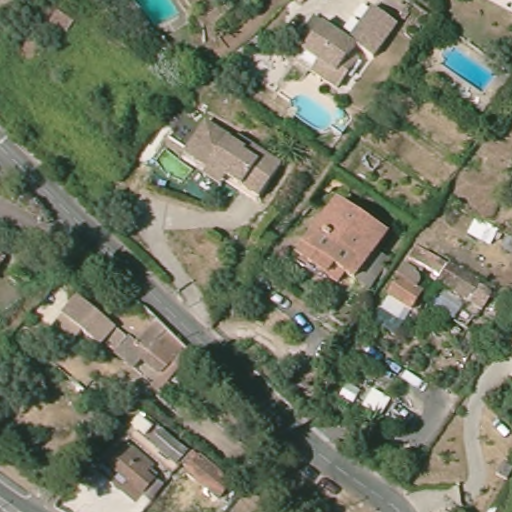pool: (433, 42, 500, 95), (285, 91, 345, 138), (134, 1, 188, 33)
